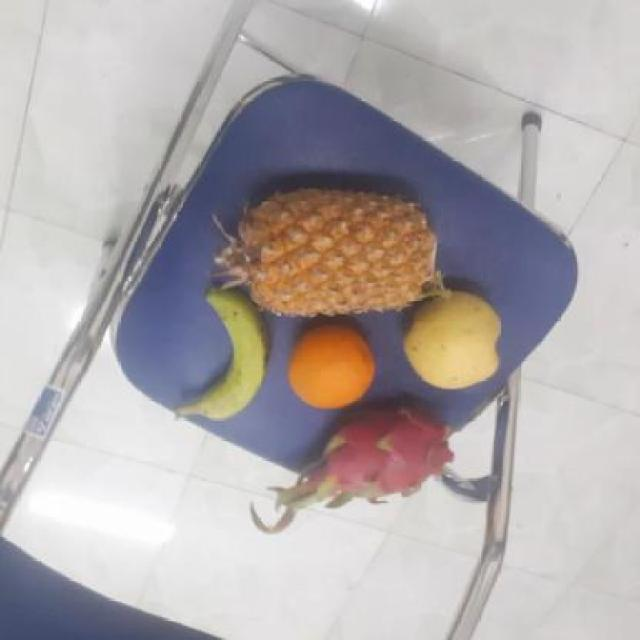dragon fruit: (304, 400, 448, 502)
oren: (283, 319, 379, 410)
pear: (400, 291, 505, 391)
pineapple: (228, 183, 440, 319)
